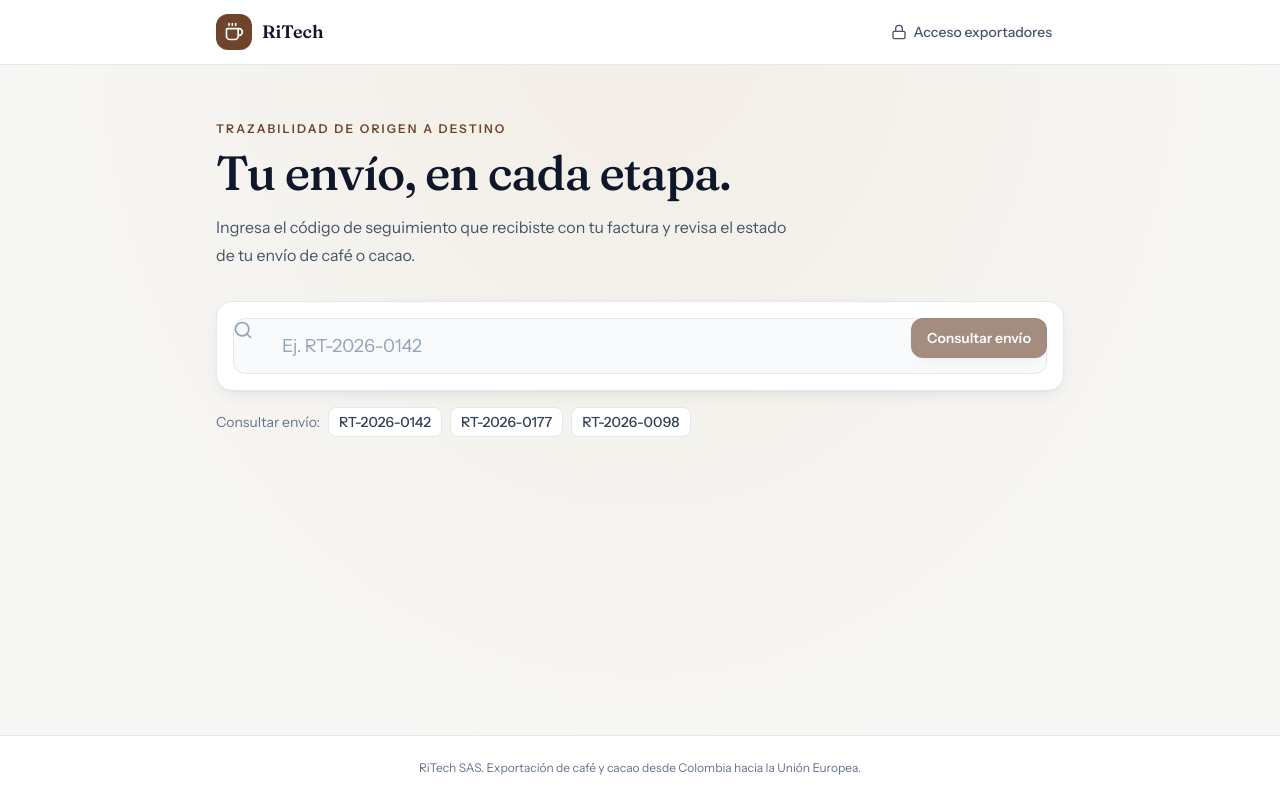
TrackingView (unitaria) › un envío entregado muestra "Fecha de entrega"
Type "RT-2026-0098" into the field named "Código de seguimiento" at (640, 346), box [233, 318, 1047, 374]
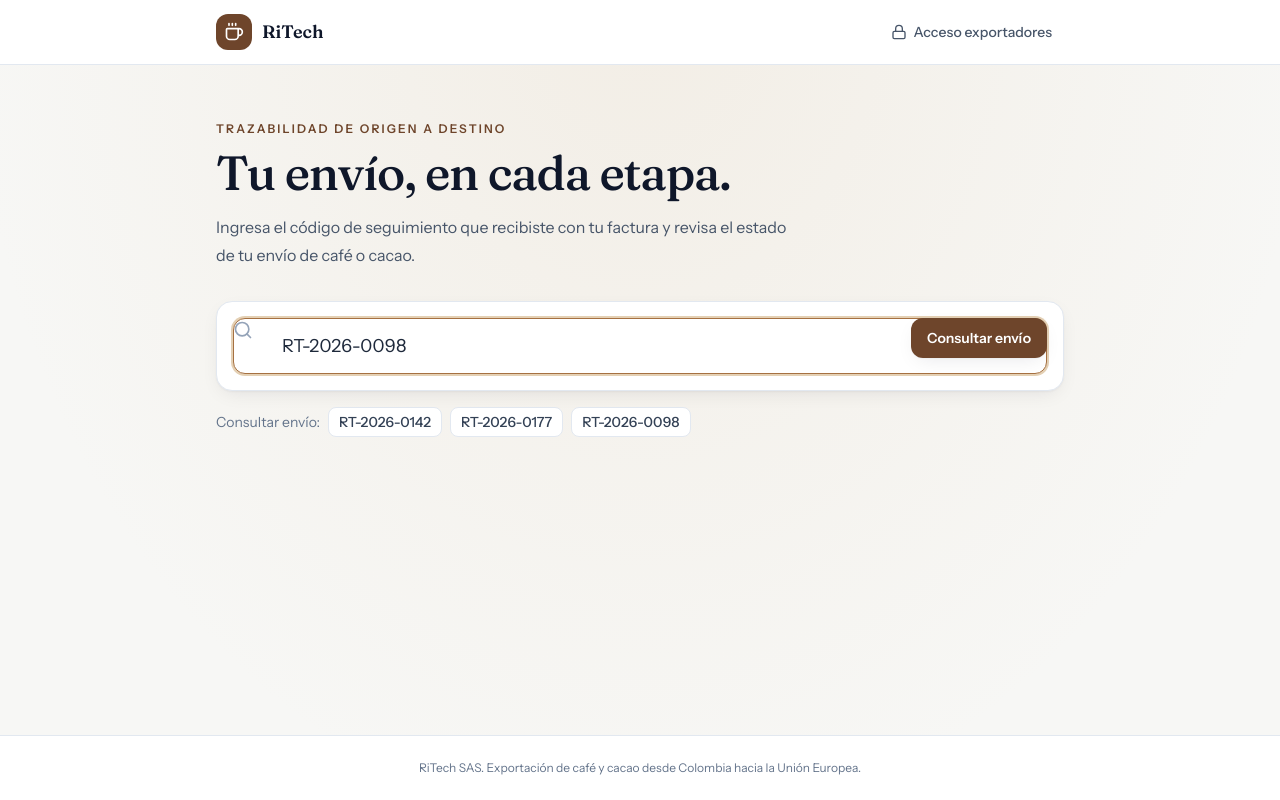
Click the button "Consultar envío" at (979, 338), box [911, 318, 1047, 358]
Wait 700 ms
(page scrolled)
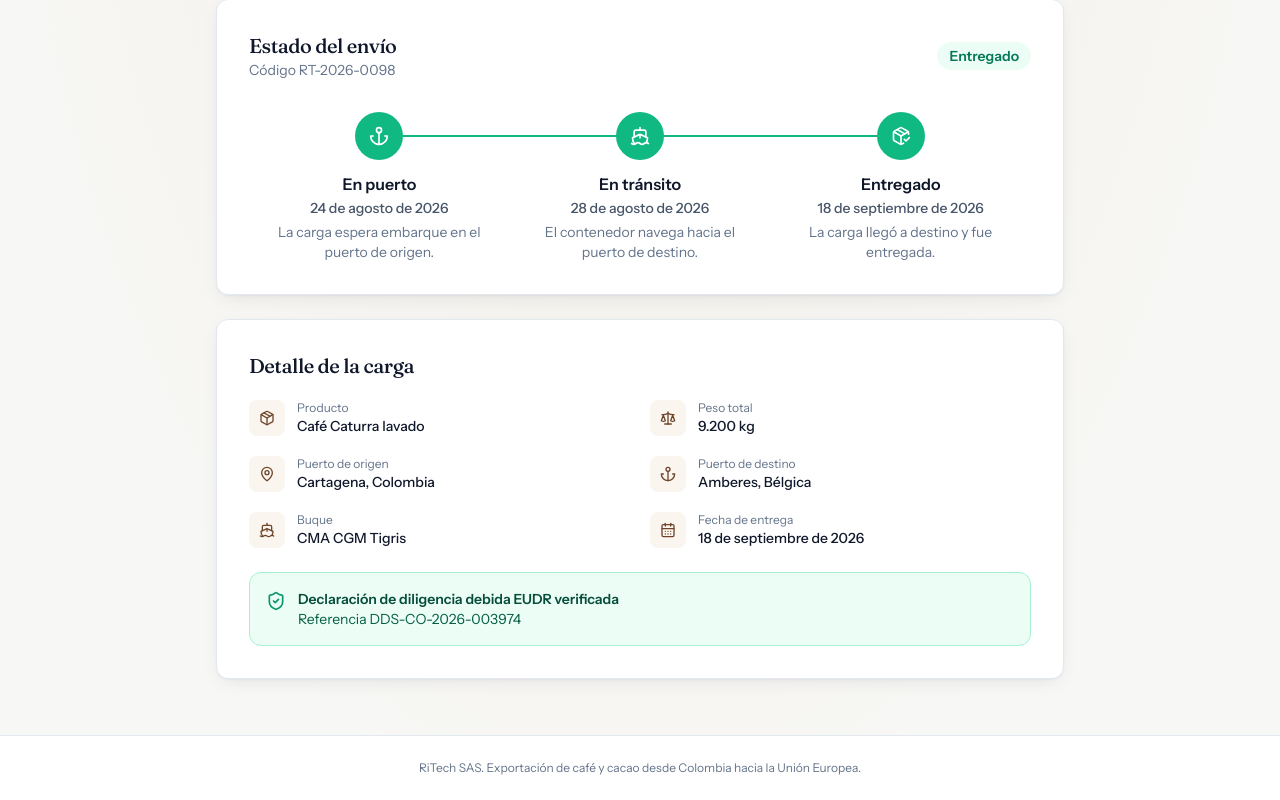
Now the text "Fecha de entrega" is shown, box [698, 512, 793, 527]
